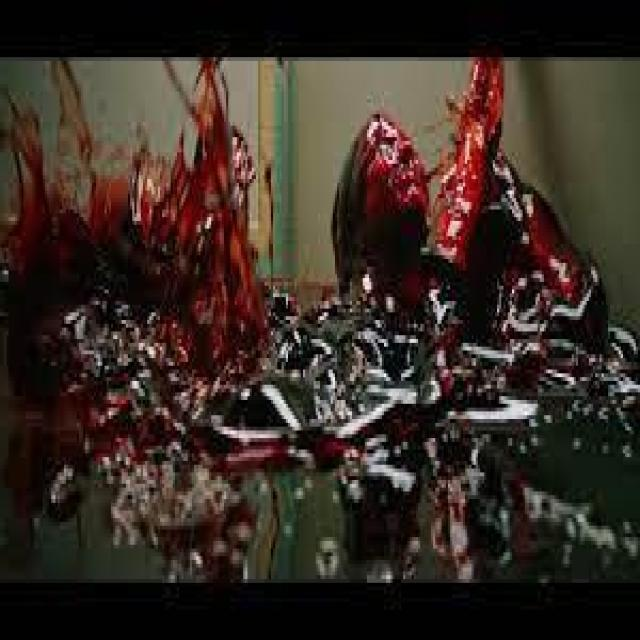flood: (0, 56, 269, 384)
